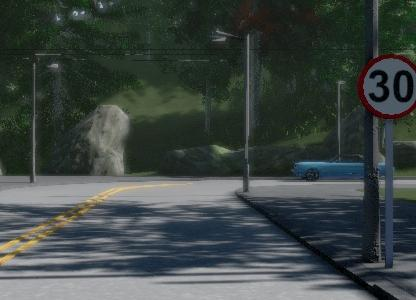Speed_30: (357, 49, 416, 125)
